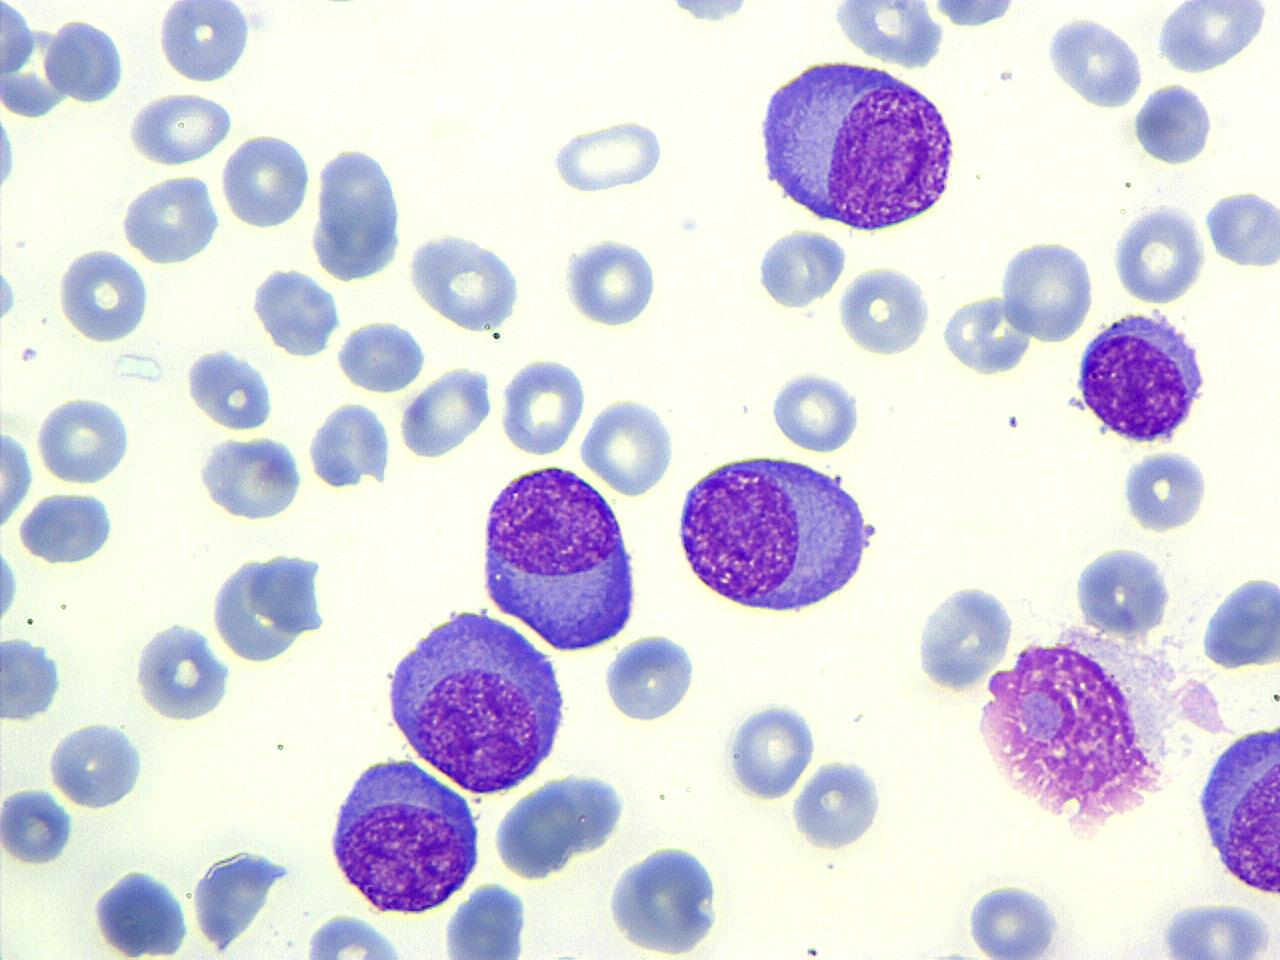Platelets: (560, 233, 657, 330), (1117, 446, 1213, 535), (960, 878, 1064, 958), (1154, 895, 1274, 960), (0, 786, 78, 866), (663, 0, 755, 28), (0, 536, 21, 631), (0, 106, 18, 197), (0, 263, 18, 326), (927, 942, 973, 960), (18, 344, 38, 362)
RBC: (997, 235, 1097, 344), (576, 392, 678, 498), (1109, 200, 1209, 305), (722, 696, 818, 804), (398, 360, 498, 462), (834, 261, 935, 359), (546, 114, 668, 195), (496, 353, 590, 458), (53, 246, 153, 344), (32, 391, 134, 486), (560, 232, 656, 330), (220, 130, 312, 229), (938, 288, 1035, 380), (124, 91, 236, 166), (768, 366, 864, 452), (182, 345, 276, 432), (43, 14, 127, 106), (1152, 900, 1278, 959), (296, 910, 418, 958), (0, 420, 33, 534), (0, 0, 36, 82)
WBC: (0, 0, 456, 343), (969, 616, 1237, 844), (0, 0, 266, 221), (751, 52, 961, 238), (380, 600, 572, 797), (672, 447, 881, 619), (477, 460, 645, 654), (323, 754, 484, 918), (1073, 305, 1211, 450), (492, 767, 632, 883), (1193, 714, 1280, 900), (208, 546, 336, 669), (306, 140, 408, 286), (604, 839, 727, 959), (910, 577, 1022, 702), (404, 225, 528, 334), (186, 843, 292, 957), (720, 694, 820, 810), (130, 618, 235, 726), (998, 236, 1098, 345), (833, 258, 937, 362), (117, 168, 226, 267), (193, 432, 307, 526), (1042, 11, 1148, 112), (1072, 540, 1176, 640), (1111, 200, 1207, 308), (54, 246, 154, 346), (788, 756, 887, 856), (46, 716, 148, 812), (89, 864, 192, 959), (400, 360, 495, 462), (600, 631, 700, 727), (33, 392, 133, 485), (1150, 0, 1274, 75), (942, 286, 1038, 382), (248, 262, 344, 358), (304, 395, 399, 492), (752, 224, 850, 314), (15, 486, 122, 568), (155, 1, 258, 85), (1198, 569, 1280, 673), (1117, 446, 1209, 538), (826, 1, 953, 67), (182, 346, 276, 434), (43, 13, 126, 109), (1130, 79, 1216, 169), (333, 317, 430, 396), (443, 878, 534, 960), (1152, 902, 1278, 960), (0, 784, 77, 870), (1203, 188, 1279, 274), (1, 630, 66, 724), (298, 911, 417, 958), (926, 0, 1022, 32), (0, 528, 24, 636), (0, 92, 21, 208)
